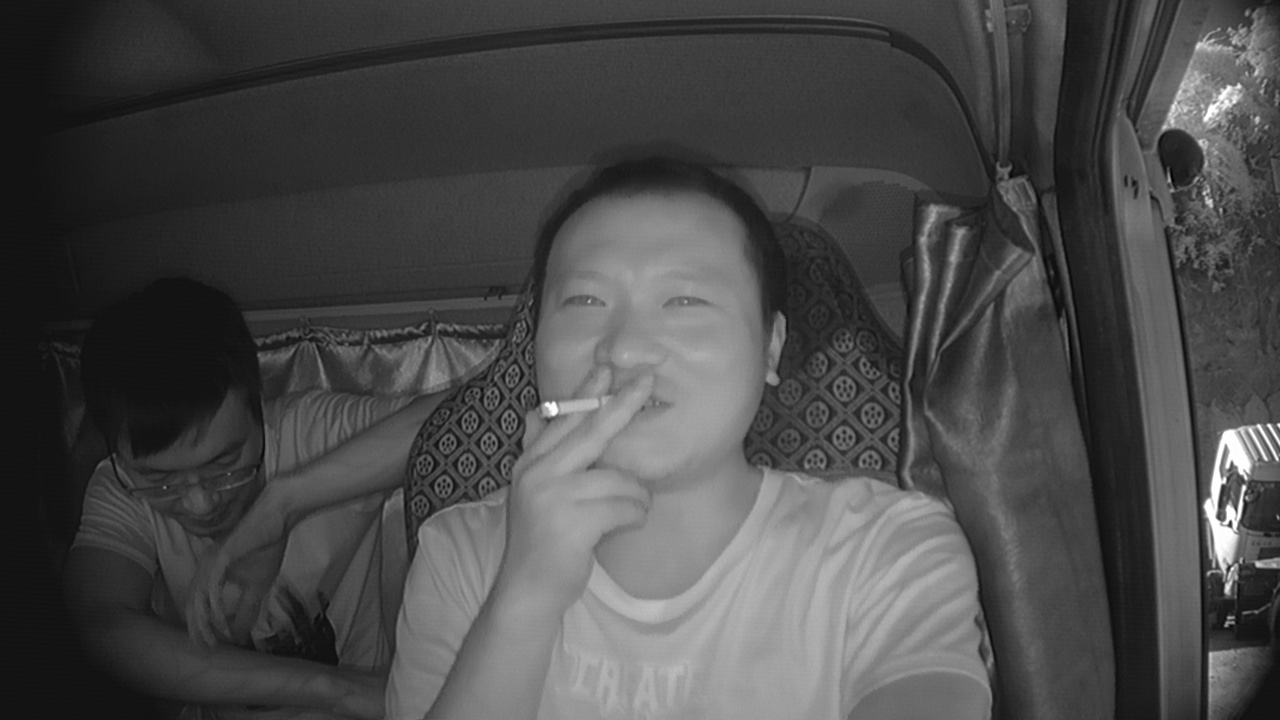hand: (515, 371, 647, 527)
